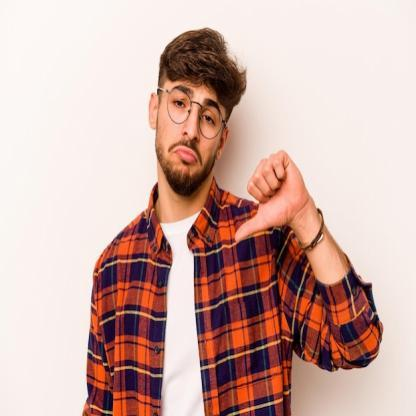thumb_down: (233, 146, 305, 247)
